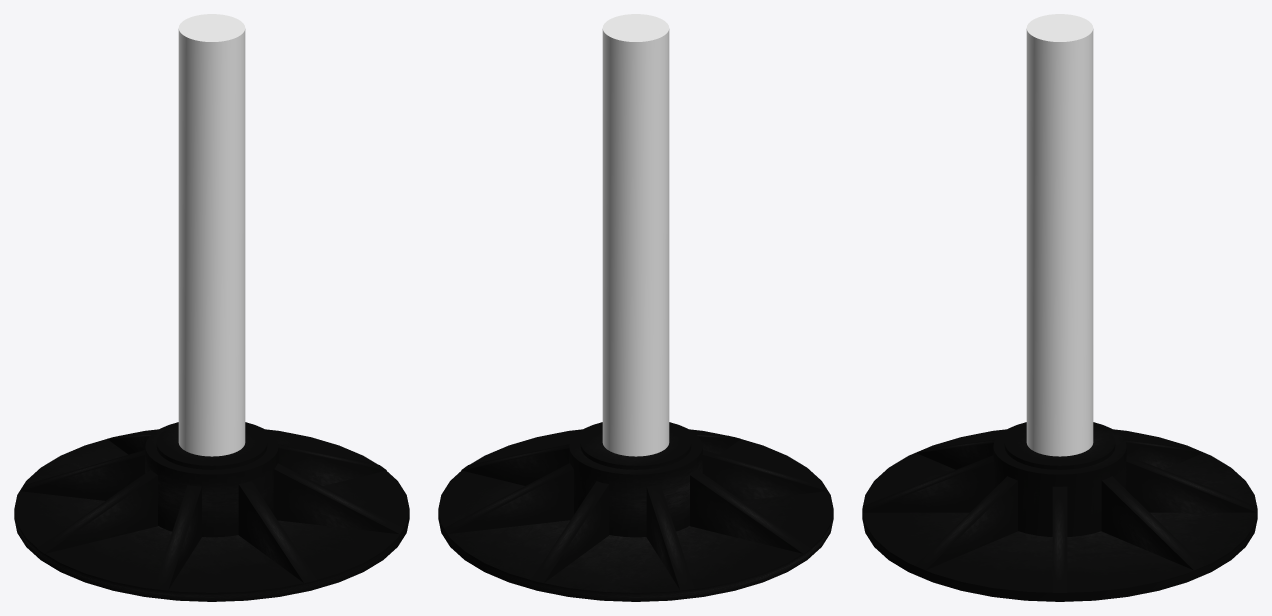
The model's file is Support1.gltf.
The picture shows the model from 3 angles, left to right: view 1: azimuth 30°, elevation 25°; view 2: azimuth 150°, elevation 25°; view 3: azimuth 270°, elevation 25°; orthographic projection.
Visible parts, largest first — view 1: Support1; view 2: Support1; view 3: Support1.
Part boxes in pixels (<box>): Support1: <box>14,14,409,601</box>; Support1: <box>438,14,833,601</box>; Support1: <box>862,14,1257,601</box>.
Size of the model in its own units: 0.2833 by 0.3874 by 0.2832.
2 materials, 1 textured.
